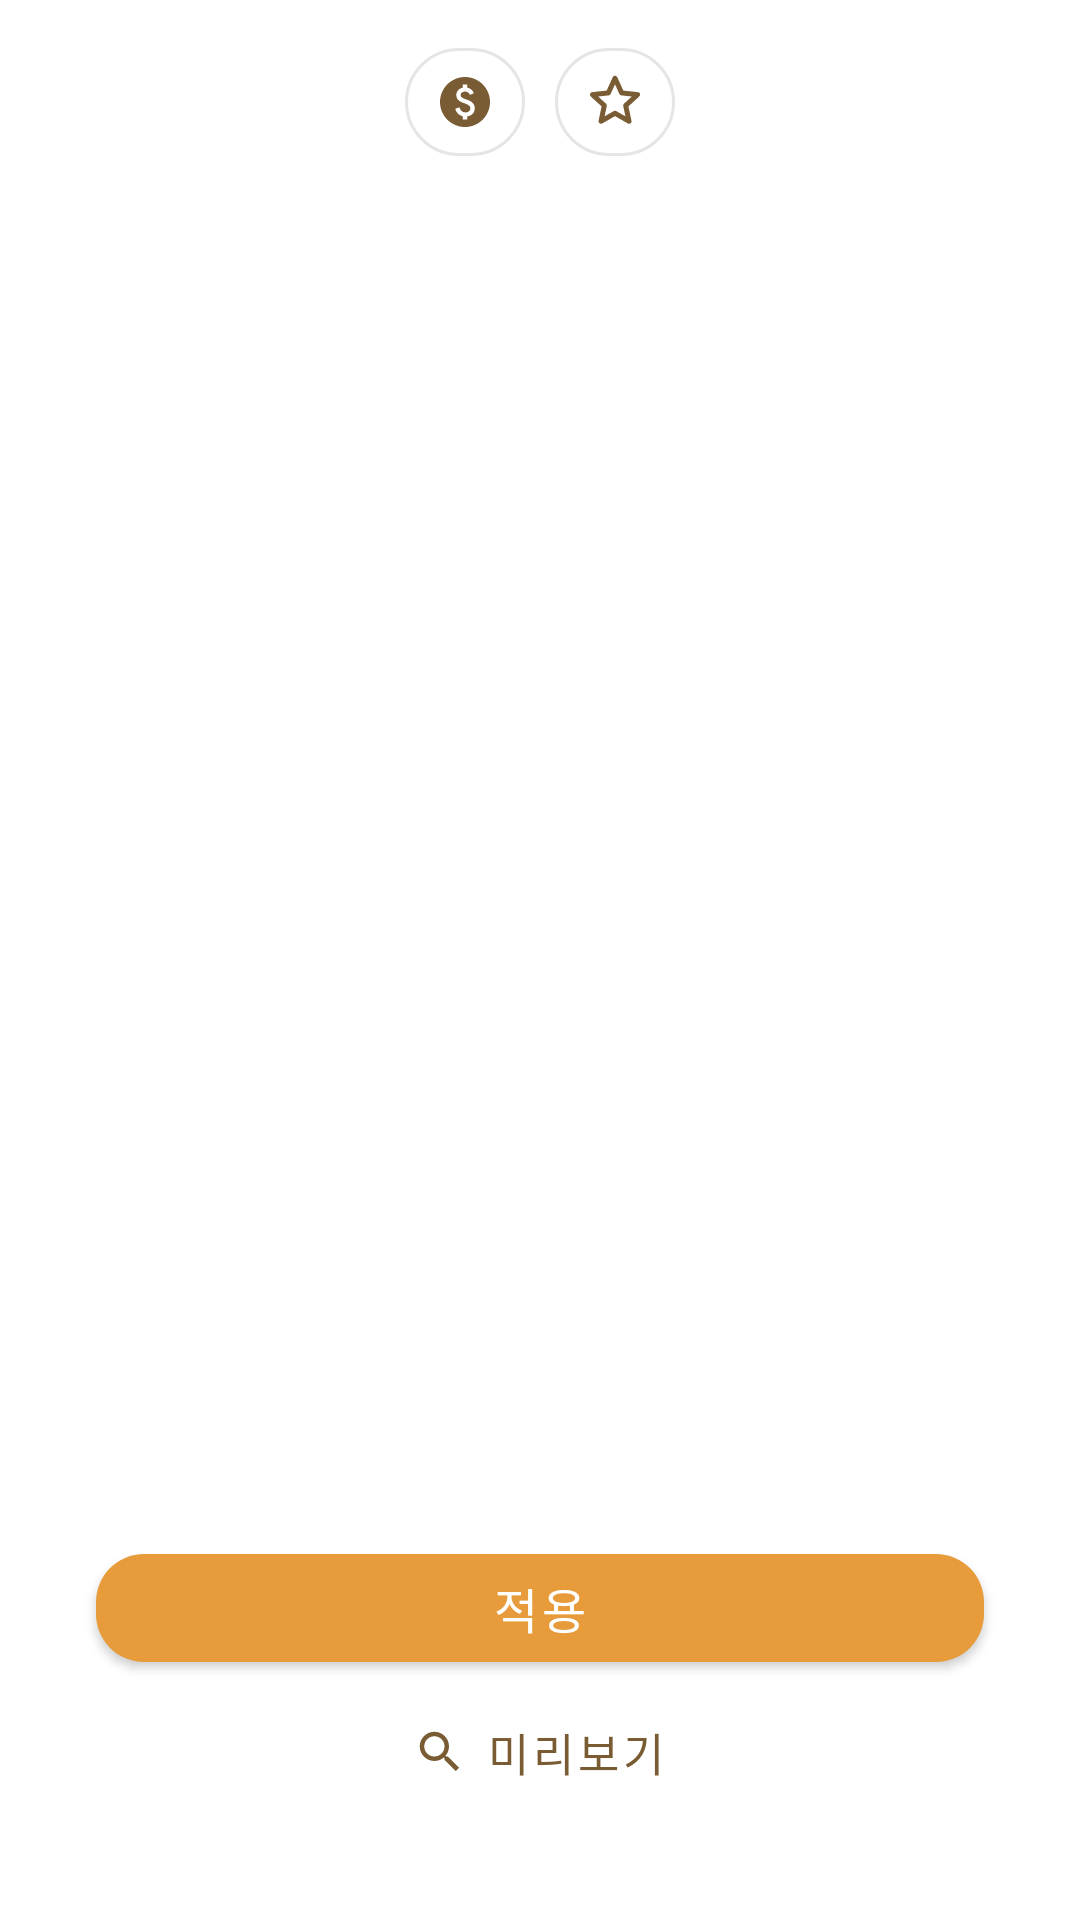

Point at icon controls on the screen. Image size 1080w x 1920h, points as (x,y).
보유한 항목만 보기: (465,102)
즐겨찾기: (615,102)
